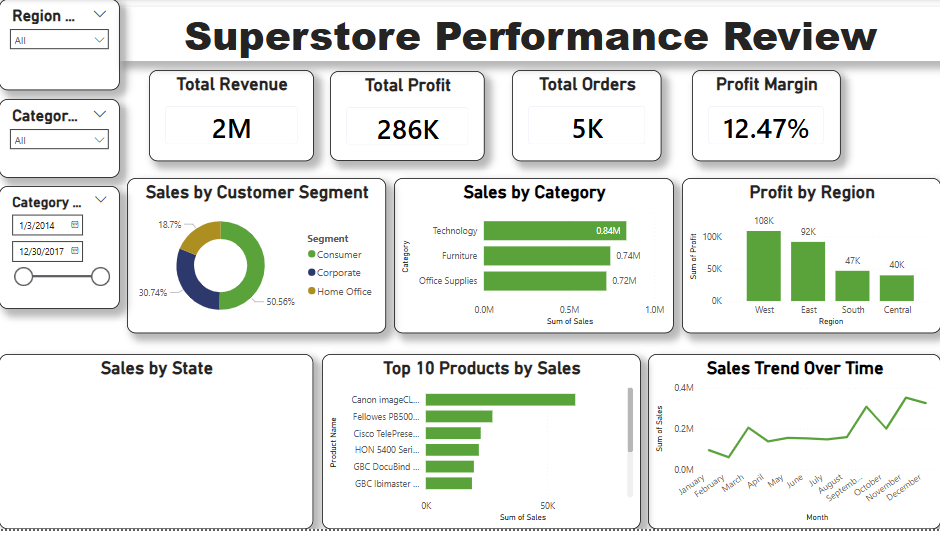

Layout of this report page (visuals, bound fields, positions):
{"tool":"powerbi","page":{"name":"Page 1","canvas":[1280,720],"ordinal":0},"visuals":[{"type":"cardVisual","title":"Total Revenue","fields":{"Data":["Sum(Sample - Superstore.Sales)"]},"box":[203.1,96,224,123.8],"z":0},{"type":"cardVisual","title":"Total Profit","fields":{"Data":["Sum(Sample - Superstore.Profit)"]},"box":[449.4,97.4,210.1,122.4],"z":1000},{"type":"cardVisual","title":"Total Orders","fields":{"Data":["Count(Sample - Superstore.Order ID)"]},"box":[697,96,203.1,123.8],"z":2000},{"type":"cardVisual","title":"Profit Margin","fields":{"Data":["Sample - Superstore.Profit Margin"]},"box":[941.9,96,201.7,123.8],"z":3000},{"type":"lineChart","title":"Sales Trend Over Time","fields":{"Y":["Sum(Sample - Superstore.Sales)"],"Category":["Sample - Superstore.Order Date.Variation.Date Hierarchy.Year","Sample - Superstore.Order Date.Variation.Date Hierarchy.Quarter","Sample - Superstore.Order Date.Variation.Date Hierarchy.Month","Sample - Superstore.Order Date.Variation.Date Hierarchy.Day"]},"box":[882.1,482.8,397.9,237.9],"z":4000},{"type":"clusteredBarChart","title":"Sales by Category","fields":{"Category":["Sample - Superstore.Category"],"Y":["Sum(Sample - Superstore.Sales)"]},"box":[537,243.5,379.8,211.5],"z":5000},{"type":"clusteredColumnChart","title":"Profit by Region","fields":{"Category":["Sample - Superstore.Region"],"Y":["Sum(Sample - Superstore.Profit)"]},"box":[928,243.5,352,211.5],"z":6000},{"type":"donutChart","title":"Sales by Customer Segment","fields":{"Category":["Sample - Superstore.Segment"],"Y":["Sum(Sample - Superstore.Sales)"]},"box":[173.9,243.5,352,211.5],"z":7000},{"type":"map","title":"Sales by State","fields":{"Category":["Sample - Superstore.Country","Sample - Superstore.State"],"Size":["Sum(Sample - Superstore.Sales)","select"]},"box":[0,482.8,427.1,237.9],"z":8000},{"type":"clusteredBarChart","title":" Top 10 Products by Sales","fields":{"Category":["Sample - Superstore.Product Name"],"Y":["Sum(Sample - Superstore.Sales)"]},"box":[438.3,482.8,432.7,237.9],"z":9000},{"type":"slicer","fields":{"Values":["Sample - Superstore.Region"]},"box":[0,0,164.2,123.8],"z":10000},{"type":"slicer","fields":{"Values":["Sample - Superstore.Category"]},"box":[0,136.3,164.2,107.1],"z":11000},{"type":"slicer","fields":{"Values":["Sample - Superstore.Order Date"]},"box":[0,254.6,164.2,167],"z":12000},{"type":"textbox","title":"Superstore Performance Review","box":[164.2,11.1,1115.8,73.7],"z":13000}]}

Visuals, with their boxes in screenshot pixels (x1, y1, x2, y2), scaled from the page's 1280x720 canvas onto the 940x534 screenshot:
"Total Revenue" cardVisual: {"x1": 149, "y1": 71, "x2": 314, "y2": 163}
"Total Profit" cardVisual: {"x1": 330, "y1": 72, "x2": 484, "y2": 163}
"Total Orders" cardVisual: {"x1": 512, "y1": 71, "x2": 661, "y2": 163}
"Profit Margin" cardVisual: {"x1": 692, "y1": 71, "x2": 840, "y2": 163}
"Sales Trend Over Time" lineChart: {"x1": 648, "y1": 358, "x2": 939, "y2": 533}
"Sales by Category" clusteredBarChart: {"x1": 394, "y1": 181, "x2": 673, "y2": 337}
"Profit by Region" clusteredColumnChart: {"x1": 682, "y1": 181, "x2": 939, "y2": 337}
"Sales by Customer Segment" donutChart: {"x1": 128, "y1": 181, "x2": 386, "y2": 337}
"Sales by State" map: {"x1": 0, "y1": 358, "x2": 314, "y2": 533}
" Top 10 Products by Sales" clusteredBarChart: {"x1": 322, "y1": 358, "x2": 640, "y2": 533}
slicer - Sample - Superstore.Region: {"x1": 0, "y1": 0, "x2": 121, "y2": 92}
slicer - Sample - Superstore.Category: {"x1": 0, "y1": 101, "x2": 121, "y2": 181}
slicer - Sample - Superstore.Order Date: {"x1": 0, "y1": 189, "x2": 121, "y2": 313}
"Superstore Performance Review" textbox: {"x1": 121, "y1": 8, "x2": 939, "y2": 63}
